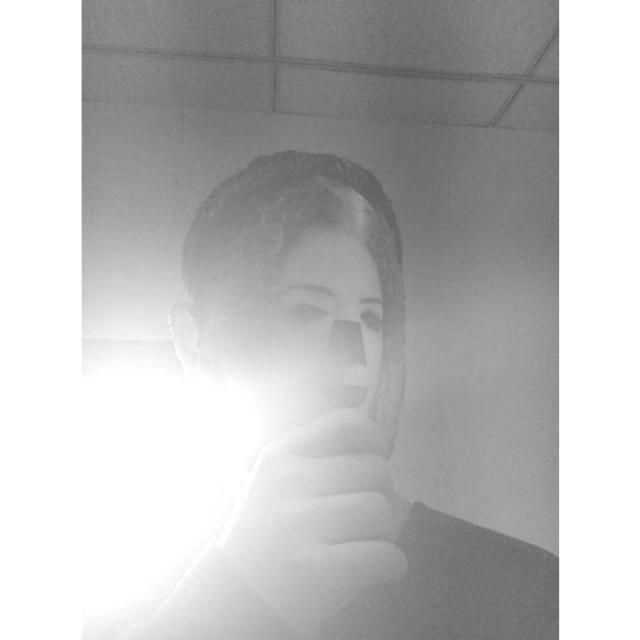fake: (210, 178, 408, 463)
